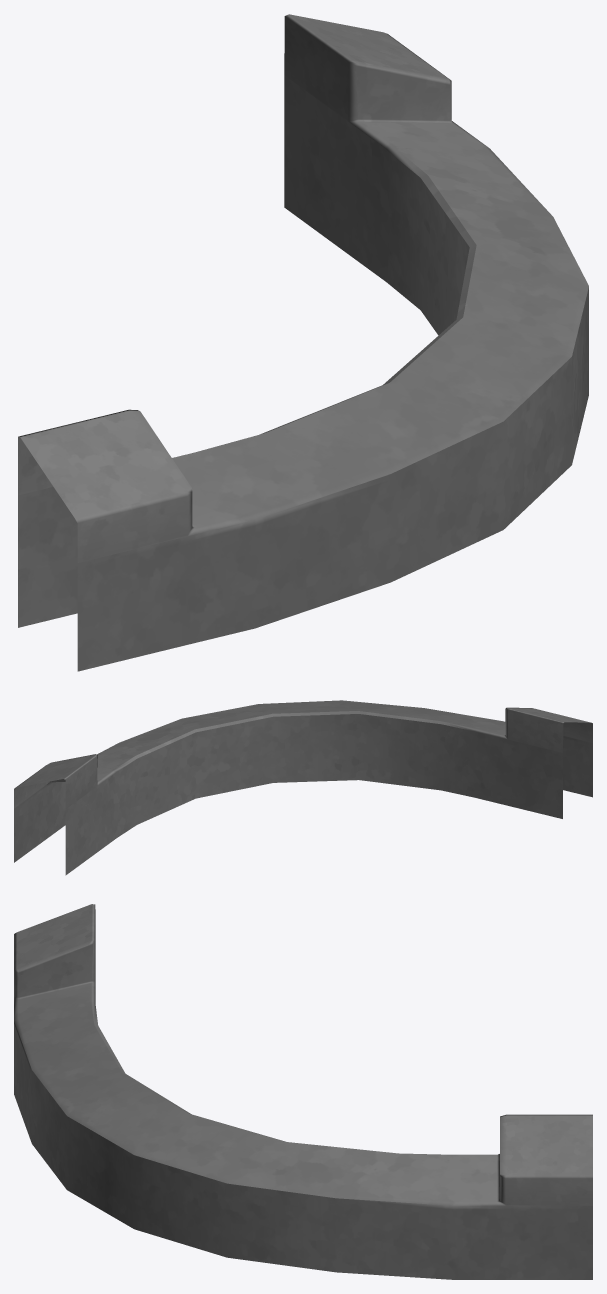
Rendered from BrickRailing_OutsideCurved.fbx.
3 renders of one model, top to bottom at view 1: azimuth 30°, elevation 25°; view 2: azimuth 150°, elevation 25°; view 3: azimuth 270°, elevation 25°, orthographic. The views are drawn at different scales.
Parts seen in each view (by area): view 1: BrickRailing_OutsideCurved; view 2: BrickRailing_OutsideCurved; view 3: BrickRailing_OutsideCurved.
Part boxes in pixels (x1=…): BrickRailing_OutsideCurved: x1=18, y1=14, x2=588, y2=671; BrickRailing_OutsideCurved: x1=14, y1=700, x2=592, y2=875; BrickRailing_OutsideCurved: x1=14, y1=904, x2=592, y2=1279.
Size of the model in its own units: 531 by 133 by 531.
1 material, 1 textured.
